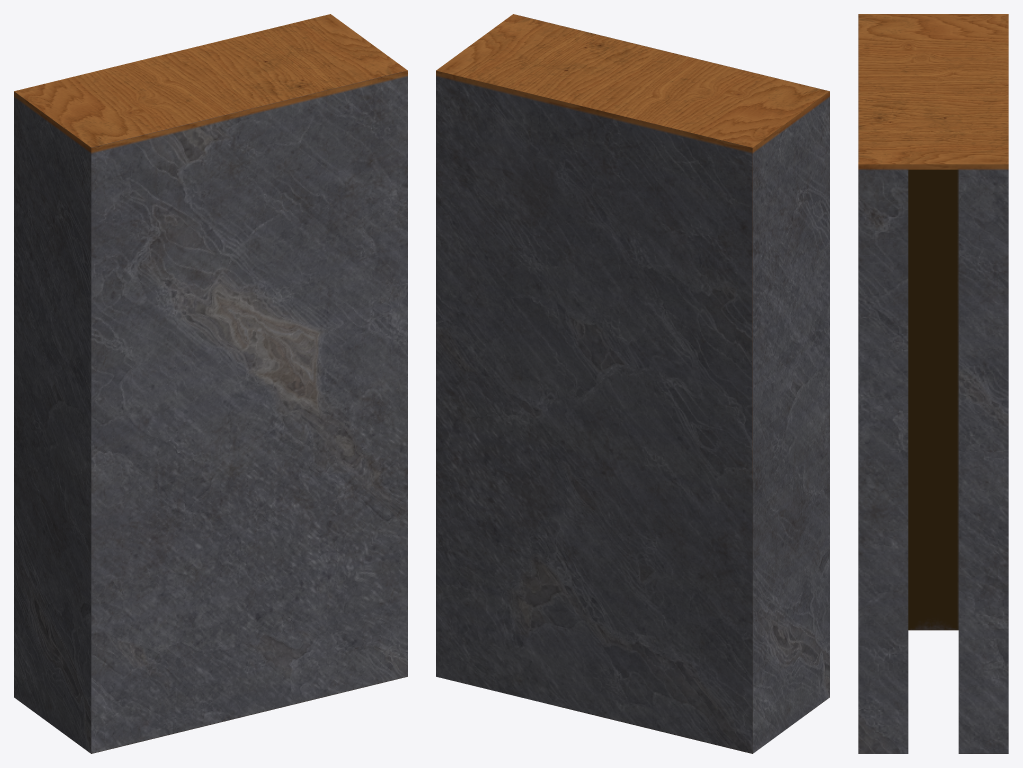
Rendered from SM_Helm_Box_01.fbx.
3 views of the same model, side by side, from view 1: azimuth 30°, elevation 25°; view 2: azimuth 150°, elevation 25°; view 3: azimuth 270°, elevation 25° (orthographic). The views are drawn at different scales.
Visible parts, largest first — view 1: Куб; view 2: Куб; view 3: Куб.
Boxes of the visible parts, x1,y1,x2,y2 form: Куб: [14, 14, 407, 753]; Куб: [436, 14, 829, 753]; Куб: [858, 14, 1008, 753].
Size of the model in its own units: 473 by 865 by 200.
